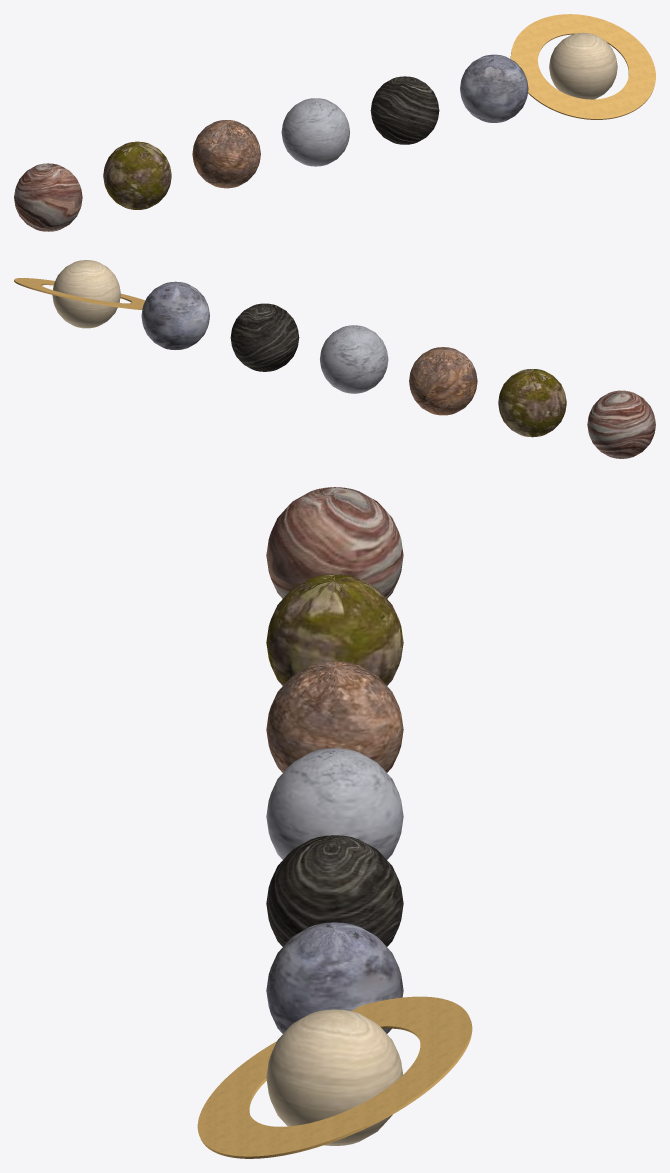
The model's file is orrery-planets.glb.
3 views of the same model, one above another, from view 1: azimuth 30°, elevation 25°; view 2: azimuth 150°, elevation 25°; view 3: azimuth 270°, elevation 25° (orthographic). The views are drawn at different scales.
Visible parts, largest first — view 1: planet-6-ring, planet-0, planet-1, planet-4, planet-5, planet-3, planet-2, planet-6; view 2: planet-2, planet-0, planet-4, planet-3, planet-5, planet-1, planet-6, planet-6-ring; view 3: planet-6-ring, planet-6, planet-0, planet-1, planet-3, planet-2, planet-4, planet-5.
Part boxes in pixels (box(x1,y1,x2,y2)): planet-6-ring: box(510, 14, 655, 119); planet-0: box(14, 163, 82, 231); planet-1: box(103, 141, 171, 209); planet-4: box(370, 76, 439, 144); planet-5: box(460, 54, 528, 122); planet-3: box(281, 98, 349, 166); planet-2: box(192, 120, 260, 188); planet-6: box(549, 33, 617, 99); planet-2: box(409, 347, 477, 415); planet-0: box(587, 390, 655, 458); planet-4: box(230, 303, 299, 371); planet-3: box(320, 325, 388, 393); planet-5: box(141, 281, 209, 349); planet-1: box(498, 369, 566, 437); planet-6: box(52, 260, 120, 328); planet-6-ring: box(14, 278, 145, 309); planet-6-ring: box(197, 996, 472, 1158); planet-6: box(266, 1009, 403, 1145); planet-0: box(266, 487, 403, 598); planet-1: box(266, 574, 403, 685); planet-3: box(266, 748, 403, 859); planet-2: box(266, 661, 403, 772); planet-4: box(266, 835, 403, 946); planet-5: box(266, 922, 403, 1033).
Bounding box in the file's own units: 21.15 × 2 × 4.
Materials: 8 (8 with a texture image).
